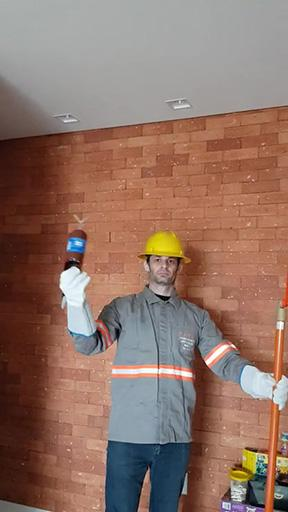Detector_Tensao_Contato: (64, 213, 89, 274)
Vara_Manobra: (263, 301, 285, 512)
